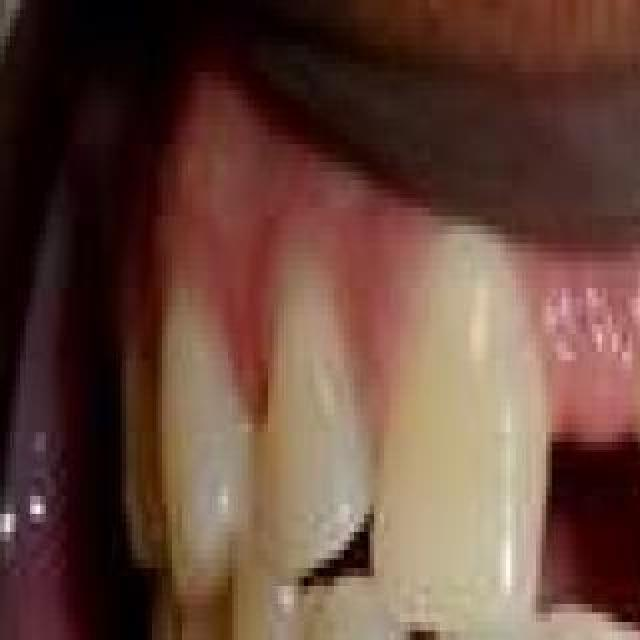maligned: (240, 280, 362, 562), (284, 564, 428, 640), (524, 574, 640, 640), (218, 554, 306, 640), (430, 594, 542, 640), (434, 618, 568, 640)
spacing: (478, 398, 640, 610), (372, 608, 454, 640)
